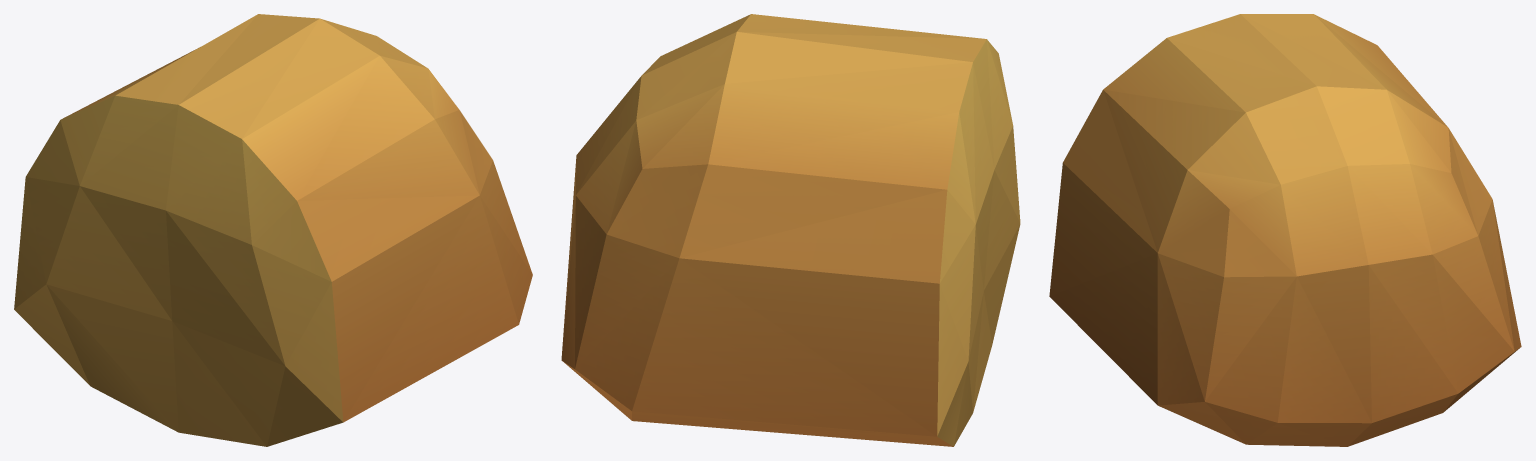
Rendered from food_ingredient_potato_gib_A_flat.gltf.
3 views of the same model, side by side, from view 1: azimuth 30°, elevation 25°; view 2: azimuth 150°, elevation 25°; view 3: azimuth 270°, elevation 25° (orthographic). The views are drawn at different scales.
Parts seen in each view (by area): view 1: food_ingredient_potato_chopped.001; view 2: food_ingredient_potato_chopped.001; view 3: food_ingredient_potato_chopped.001.
Part boxes in pixels (x1,y1,x2,y2): food_ingredient_potato_chopped.001: (14,14,532,446); food_ingredient_potato_chopped.001: (561,14,1020,446); food_ingredient_potato_chopped.001: (1049,14,1521,446).
Size of the model in its own units: 0.3422 by 0.2777 by 0.3617.
Materials: 1 (1 with a texture image).
